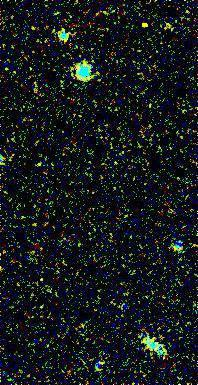star: (130, 9, 160, 39)
